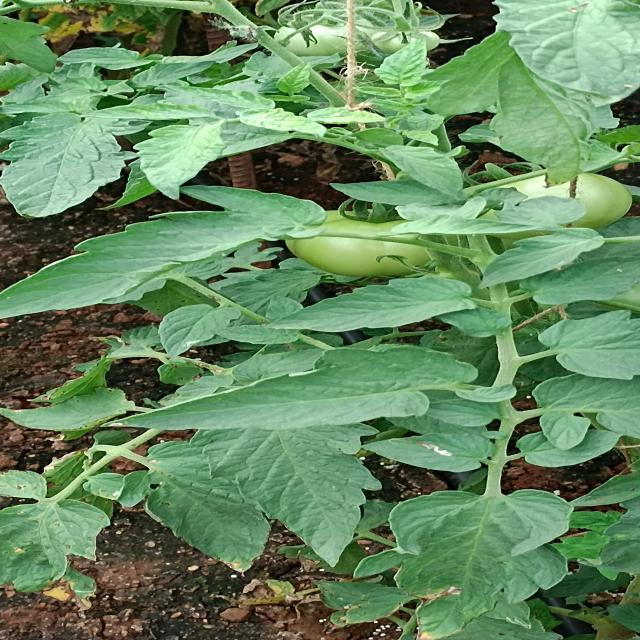Healthy Leaf: (0, 187, 331, 317), (133, 337, 492, 434), (390, 481, 582, 613), (256, 272, 470, 339), (2, 498, 119, 600), (127, 126, 243, 201), (492, 226, 602, 293), (378, 136, 478, 200), (350, 430, 484, 473), (380, 144, 478, 200)
